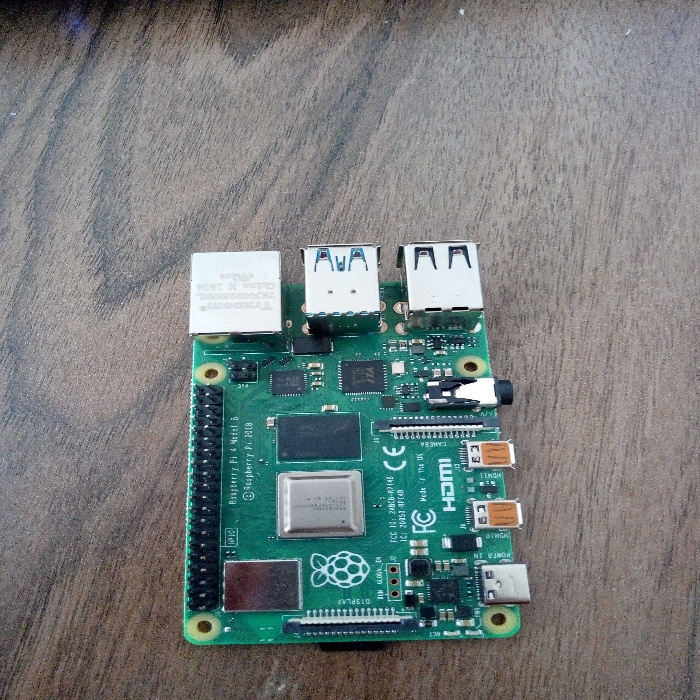raspberry: (160, 222, 550, 653)
